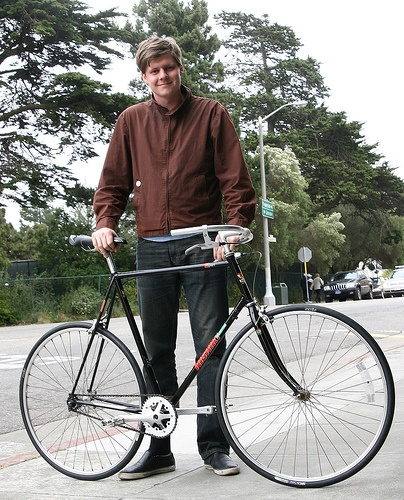head: (134, 38, 185, 96)
person: (91, 27, 261, 484), (310, 270, 323, 301), (300, 272, 313, 301)
